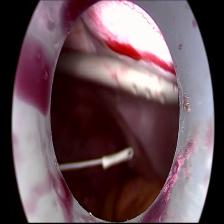Irrigator: (102, 53, 180, 113)
